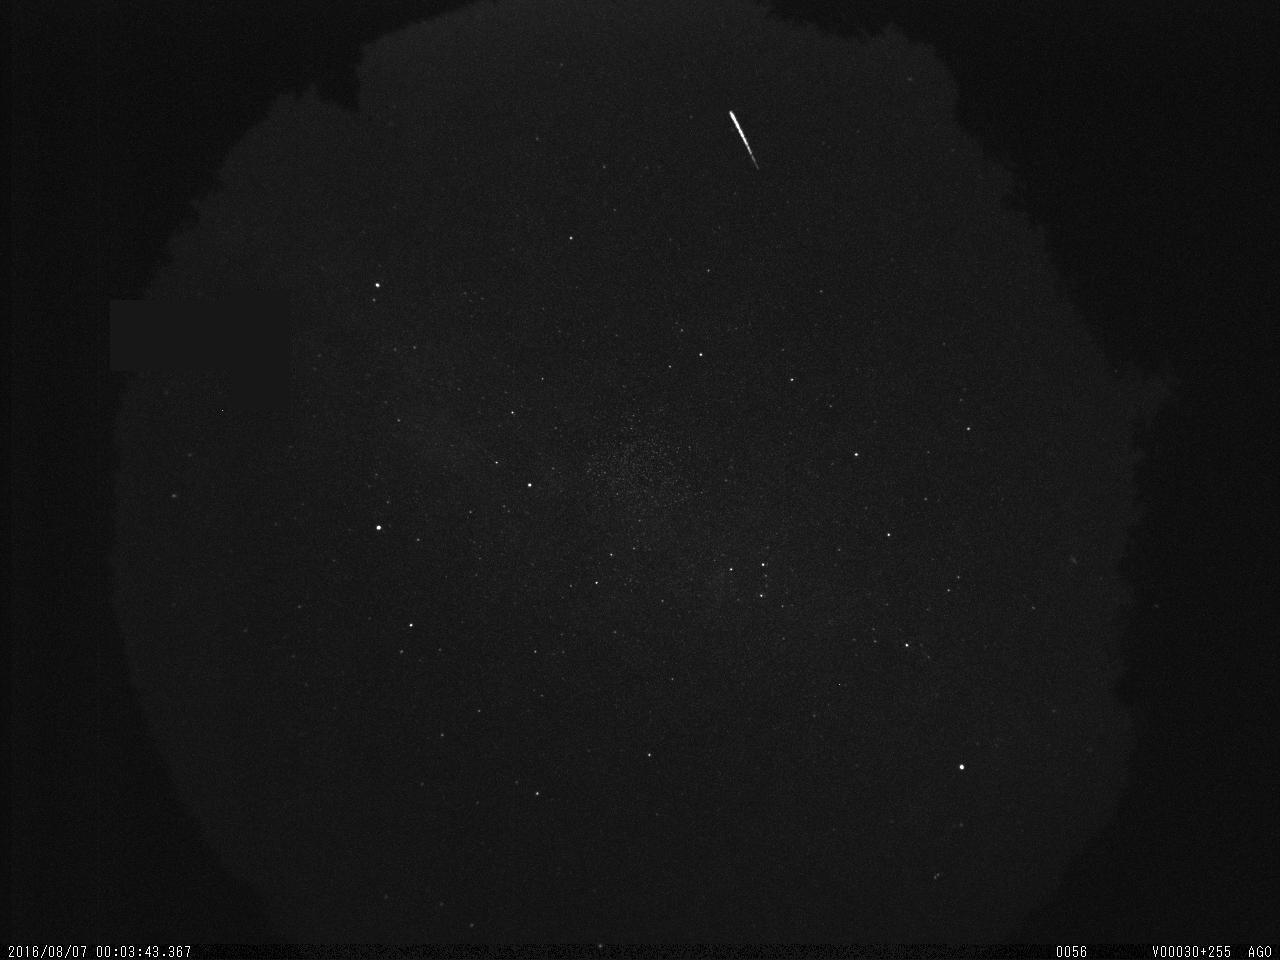meteor: (721, 102, 770, 174)
